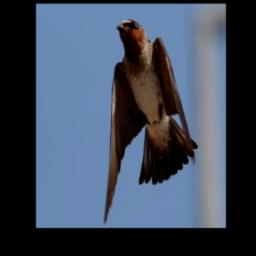Swallow: (104, 18, 198, 224)
